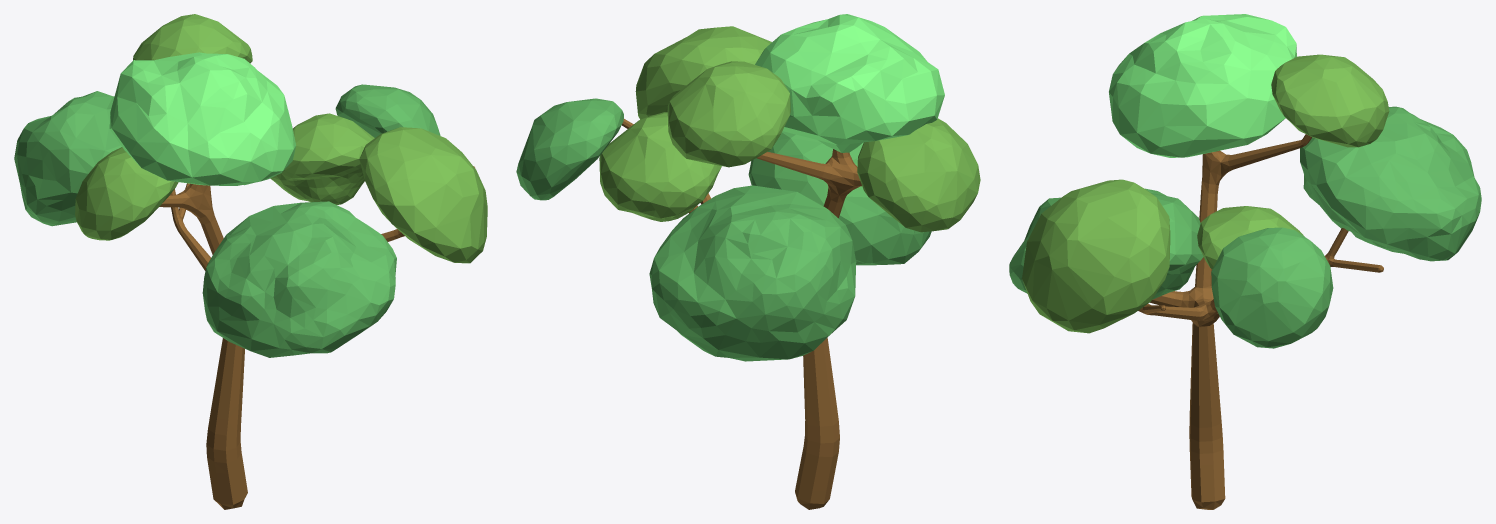
File: tree2.glb
3 renders of one model, left to right at view 1: azimuth 30°, elevation 25°; view 2: azimuth 150°, elevation 25°; view 3: azimuth 270°, elevation 25°, orthographic. The views are drawn at different scales.
Parts seen in each view (by area): view 1: tree, tree.002, tree.001, tree.003; view 2: tree, tree.002, tree.001, tree.003; view 3: tree, tree.002, tree.001, tree.003.
Part boxes in pixels (x1,y1,x2,y2): tree: [14, 84, 440, 357]; tree.002: [75, 14, 487, 263]; tree.001: [109, 52, 296, 185]; tree.003: [159, 166, 475, 509]; tree: [516, 98, 931, 361]; tree.002: [599, 26, 980, 232]; tree.001: [755, 14, 944, 152]; tree.003: [622, 119, 861, 509]; tree: [1009, 106, 1481, 348]; tree.002: [1022, 54, 1389, 333]; tree.001: [1109, 14, 1296, 157]; tree.003: [1138, 134, 1383, 509].
Bounding box in the file's own units: 9.75 × 11.29 × 10.25.
